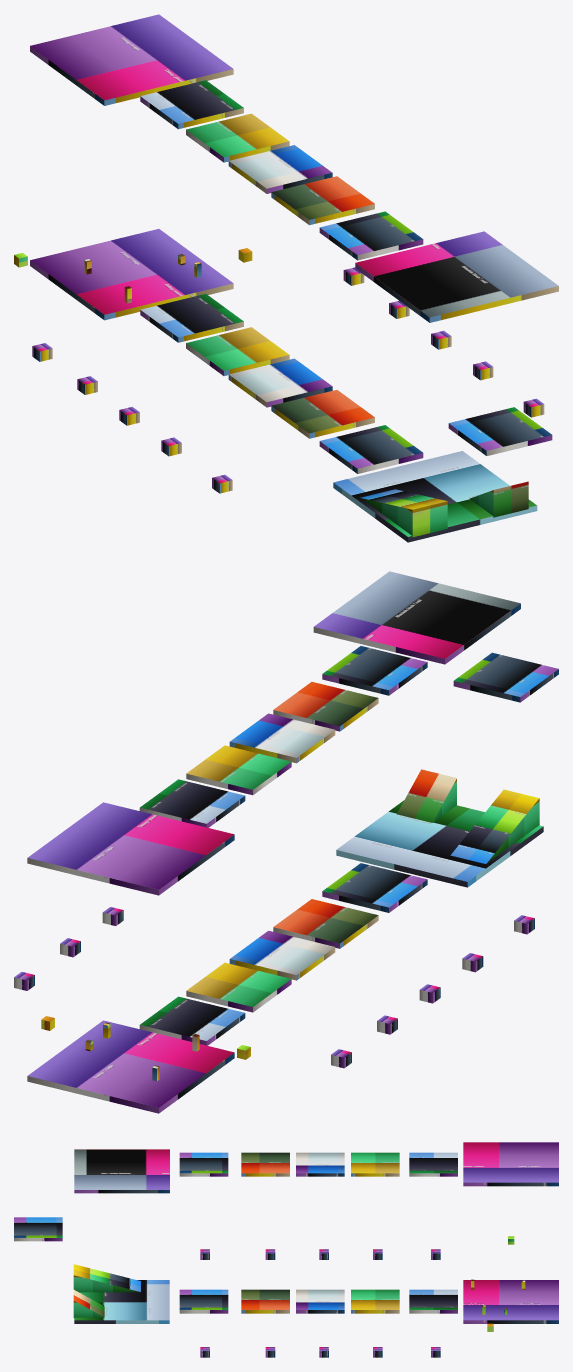
3 views of the same model, one above another, from view 1: azimuth 30°, elevation 25°; view 2: azimuth 150°, elevation 25°; view 3: azimuth 270°, elevation 25° (orthographic). The views are drawn at different scales.
Visible parts, largest first — view 1: Box.012, Box.001, Box.013, Box, platform_move_2.009, platform_move_2.004, zplatform_move_2.005, platform_move_2, platform_move_2.008, platform_move_2.003, platform_move_2.005, platform_move_2.006 (+3 smaller); view 2: Box.012, Box.001, Box.013, Box, platform_move_2.001, zplatform_move_2.005, platform_move_2.006, platform_move_2.009, platform_move_2.004, platform_move_2.002, platform_move_2.007, platform_move_2.008 (+3 smaller); view 3: Box.012, Box.001, Box.013, Box, platform_move_2.004, platform_move_2.009, platform_move_2, platform_move_2.001, platform_move_2.002, platform_move_2.003, zplatform_move_2.005, platform_move_2.005 (+3 smaller).
Part boxes in pixels (x1,y1,x2,y2): Box.012: (333, 451, 537, 542); Box.001: (355, 231, 558, 322); Box.013: (30, 14, 233, 105); Box: (30, 229, 233, 320); platform_move_2.009: (319, 211, 423, 260); platform_move_2.004: (319, 425, 423, 473); zplatform_move_2.005: (448, 407, 552, 455); platform_move_2: (140, 294, 243, 342); platform_move_2.008: (271, 176, 374, 225); platform_move_2.003: (271, 390, 374, 438); platform_move_2.005: (140, 80, 243, 129); platform_move_2.006: (186, 113, 289, 162); Box.012: (336, 769, 543, 887); Box.001: (313, 571, 520, 664); Box.013: (27, 802, 234, 895); Box: (27, 1020, 234, 1113); platform_move_2.001: (186, 962, 291, 1012); zplatform_move_2.005: (453, 652, 558, 702); platform_move_2.006: (186, 745, 291, 795); platform_move_2.009: (322, 646, 427, 695); platform_move_2.004: (322, 863, 427, 912); platform_move_2.002: (229, 930, 335, 980); platform_move_2.007: (229, 713, 335, 763); platform_move_2.008: (273, 682, 378, 731); Box.012: (73, 1264, 169, 1323); Box.001: (74, 1149, 169, 1193); Box.013: (463, 1142, 558, 1186); Box: (463, 1280, 558, 1323); platform_move_2.004: (179, 1289, 228, 1313); platform_move_2.009: (179, 1152, 228, 1176); platform_move_2: (409, 1289, 457, 1313); platform_move_2.001: (351, 1289, 399, 1313); platform_move_2.002: (296, 1289, 344, 1313); platform_move_2.003: (241, 1289, 289, 1313); zplatform_move_2.005: (14, 1217, 62, 1241); platform_move_2.005: (409, 1152, 457, 1176).
Bounding box in the file's own units: 19.3 × 12.56 × 43.76.
1 material, 1 textured.
